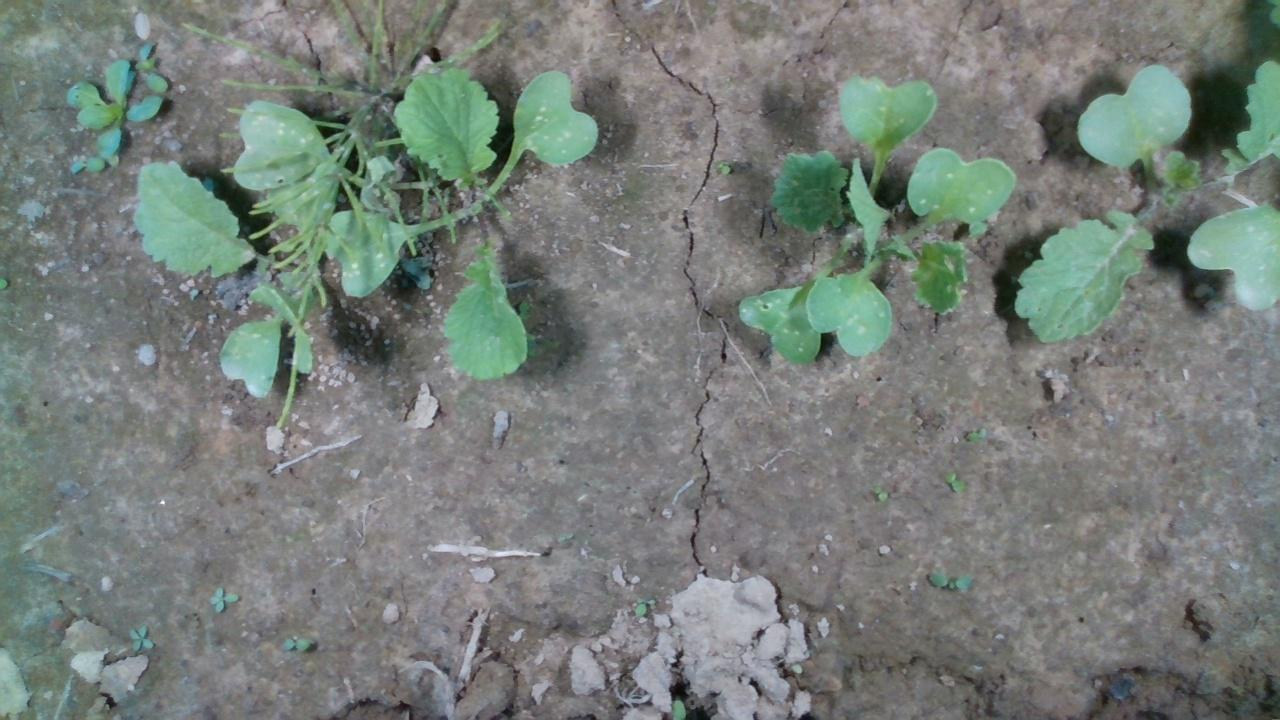weed: (926, 569, 973, 591), (206, 585, 239, 613), (127, 623, 155, 652), (277, 633, 316, 652), (942, 468, 964, 492), (715, 159, 730, 175)
